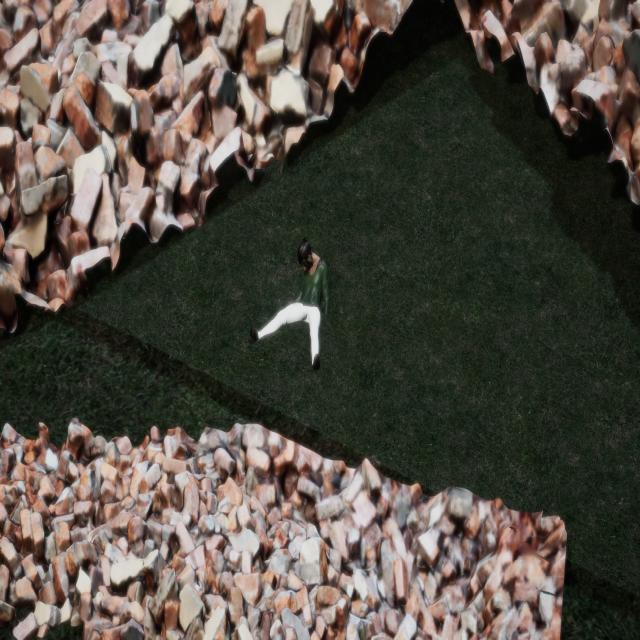Human: (245, 229, 333, 390)
